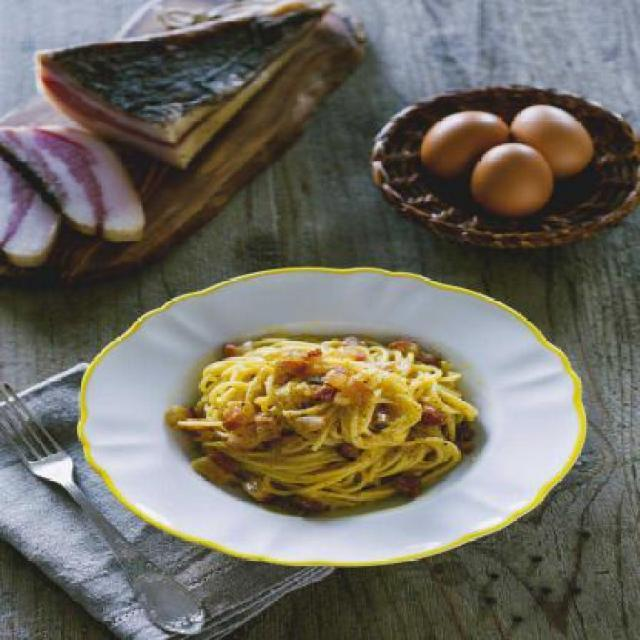Pasta with carbonara sauce: (109, 298, 533, 556)
